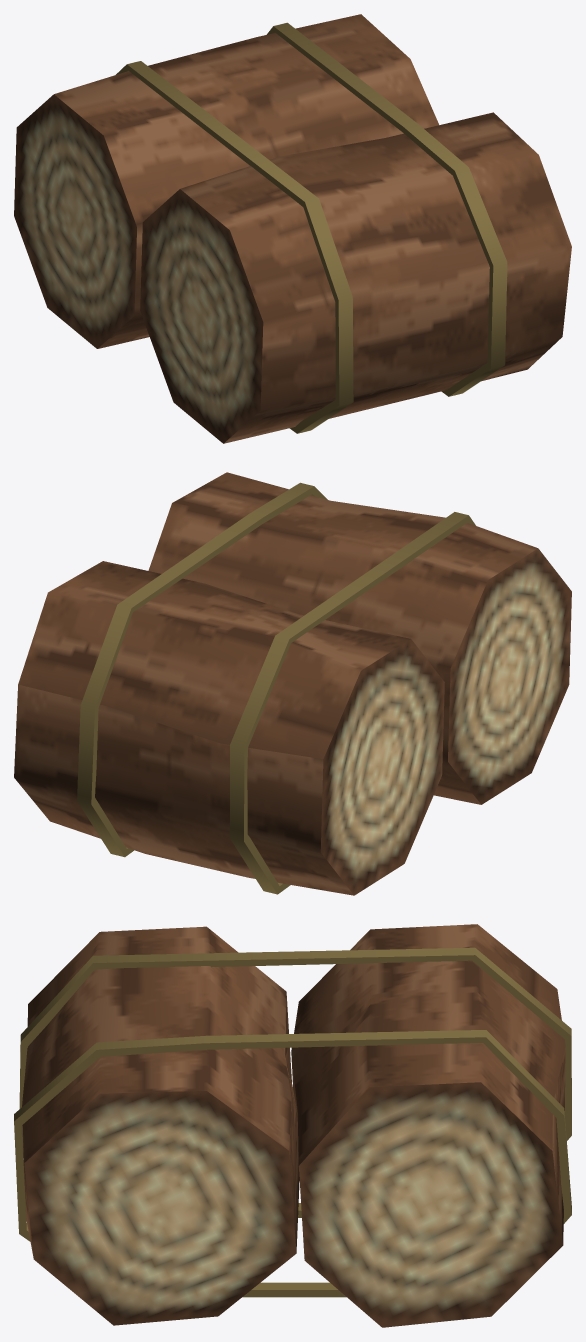
The model's file is igot2logs.fbx.
3 renders of one model, top to bottom at view 1: azimuth 30°, elevation 25°; view 2: azimuth 150°, elevation 25°; view 3: azimuth 270°, elevation 25°, orthographic. The views are drawn at different scales.
Parts seen in each view (by area): view 1: TwoLogsStack; view 2: TwoLogsStack; view 3: TwoLogsStack.
Boxes of the visible parts, box(x1,y1,x2,y2) form: TwoLogsStack: box(14, 14, 571, 443); TwoLogsStack: box(14, 472, 571, 895); TwoLogsStack: box(14, 924, 571, 1327).
Size of the model in its own units: 0.1846 by 0.1378 by 0.2651.
